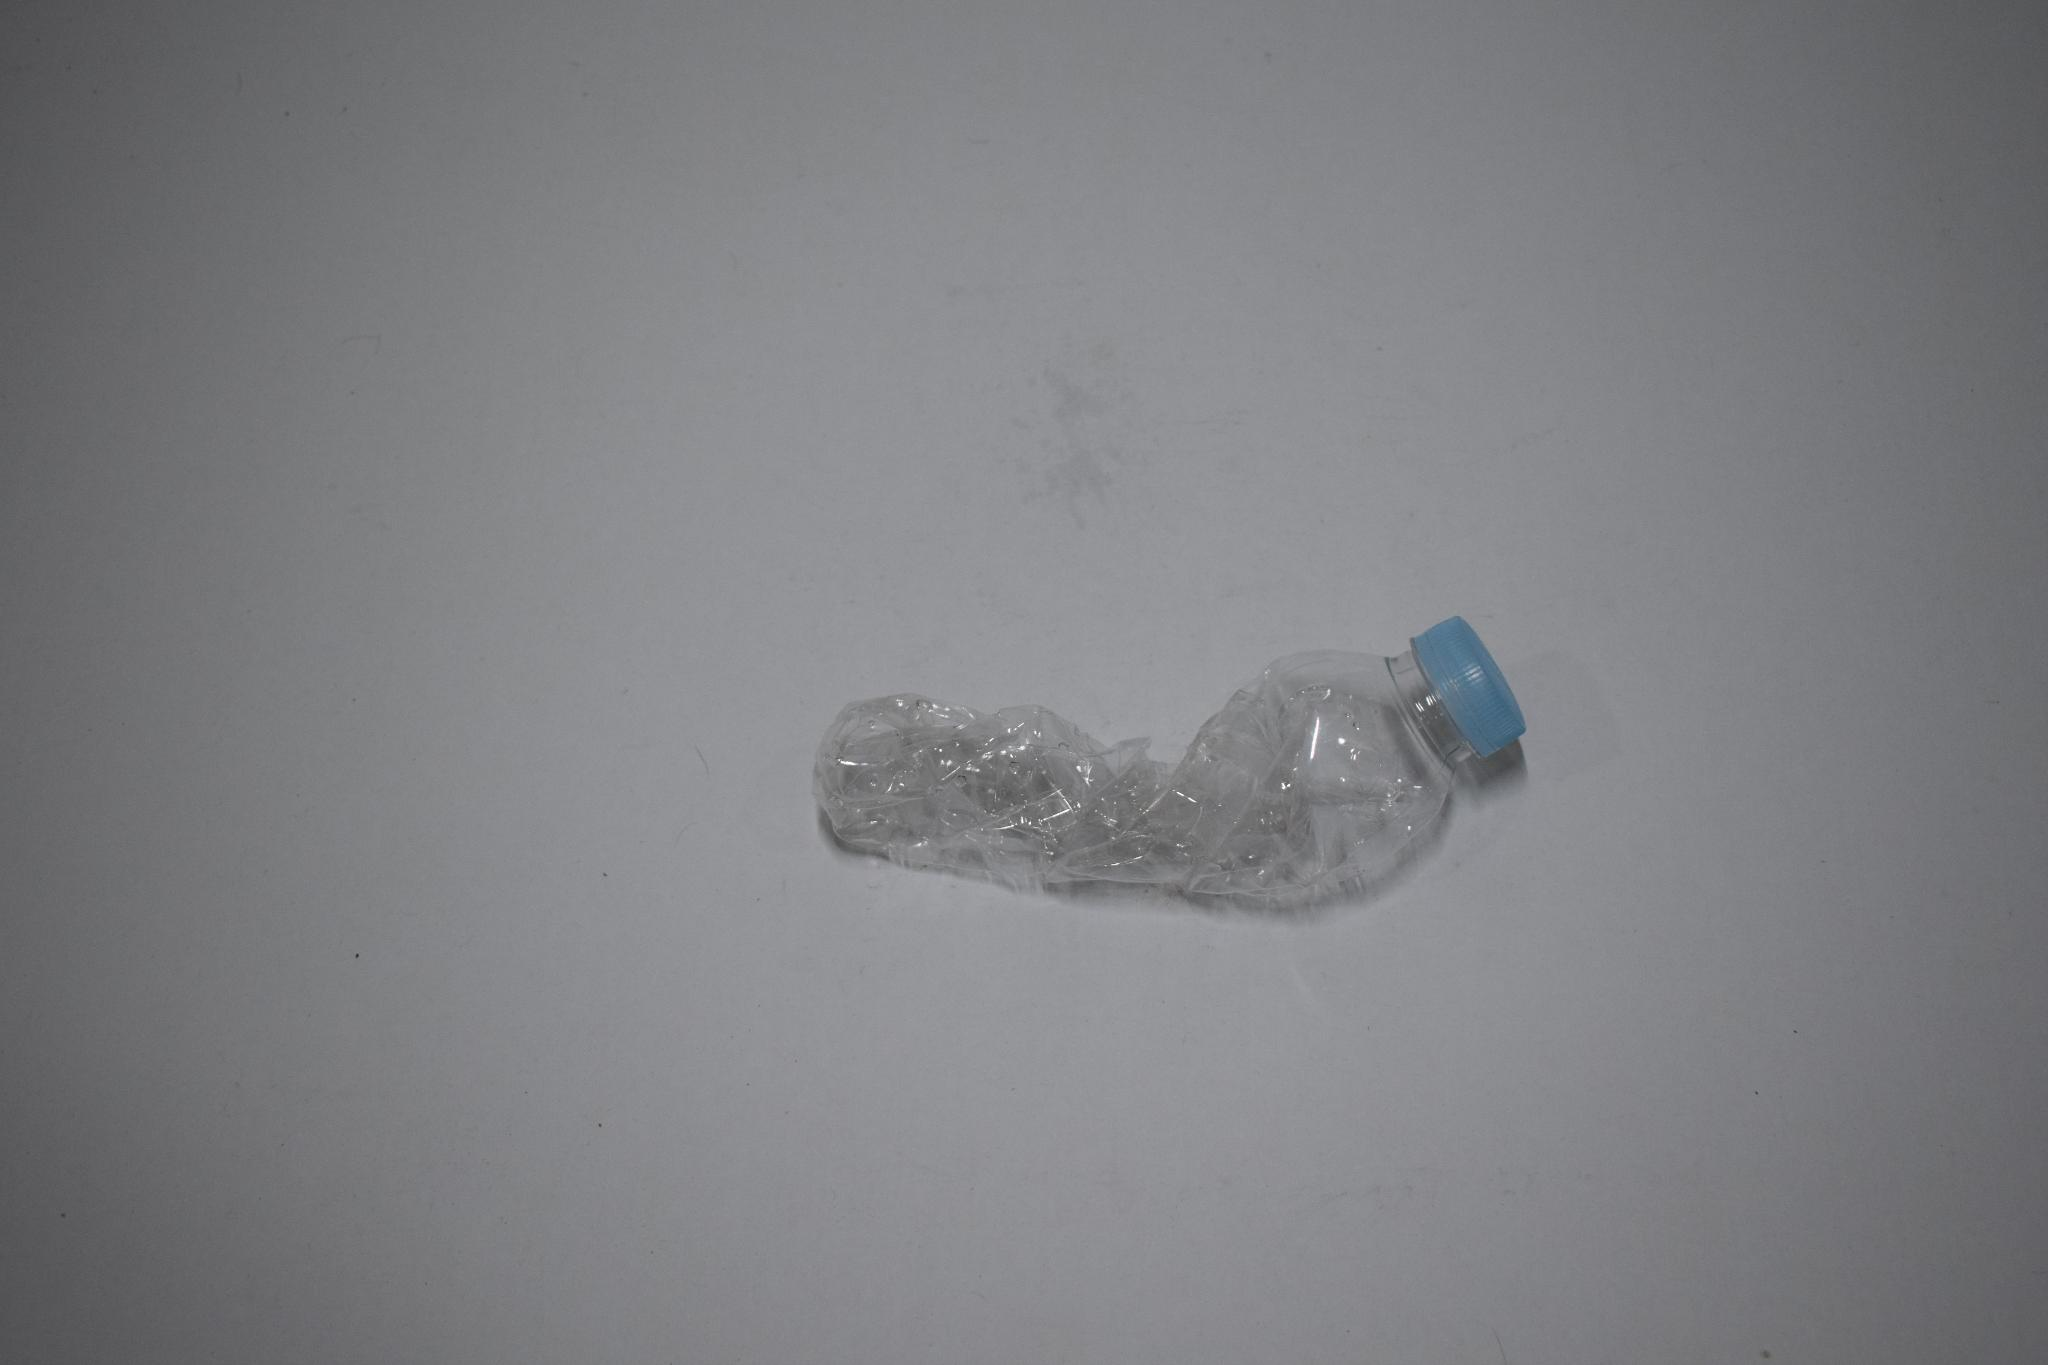bottle: (799, 600, 1581, 923)
